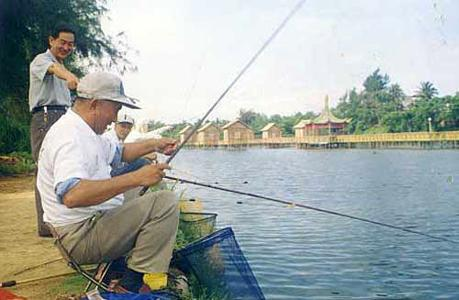person: (37, 73, 181, 294)
